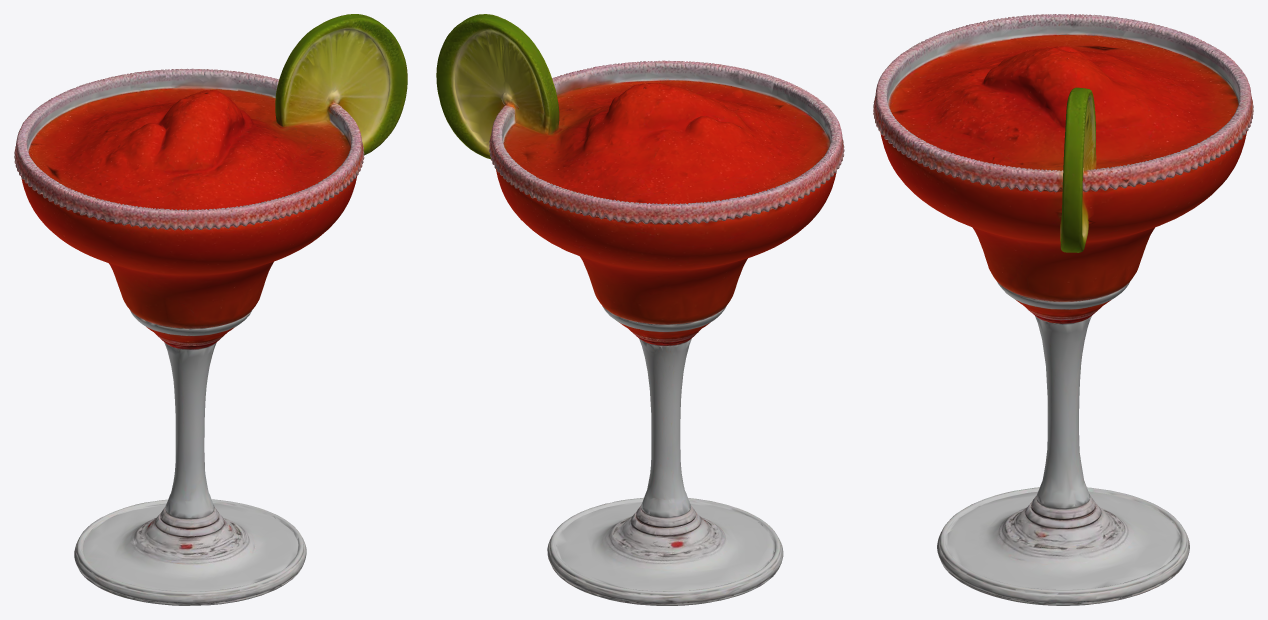
File: salsa.glb
3 views of the same model, side by side, from view 1: azimuth 30°, elevation 25°; view 2: azimuth 150°, elevation 25°; view 3: azimuth 270°, elevation 25° (orthographic). The views are drawn at different scales.
Parts seen in each view (by area): view 1: material; view 2: material; view 3: material.
Part boxes in pixels (x1,y1,x2,y2): material: (14,14,407,605); material: (436,14,844,605); material: (873,14,1253,605).
Bounding box in the file's own units: 0.7988 × 1.02 × 0.6468.
1 material, 1 textured.
